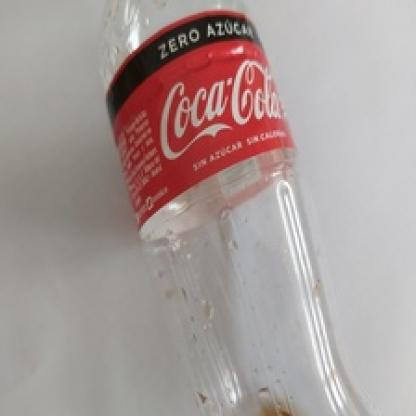plastic_bottles: (95, 1, 369, 416)
